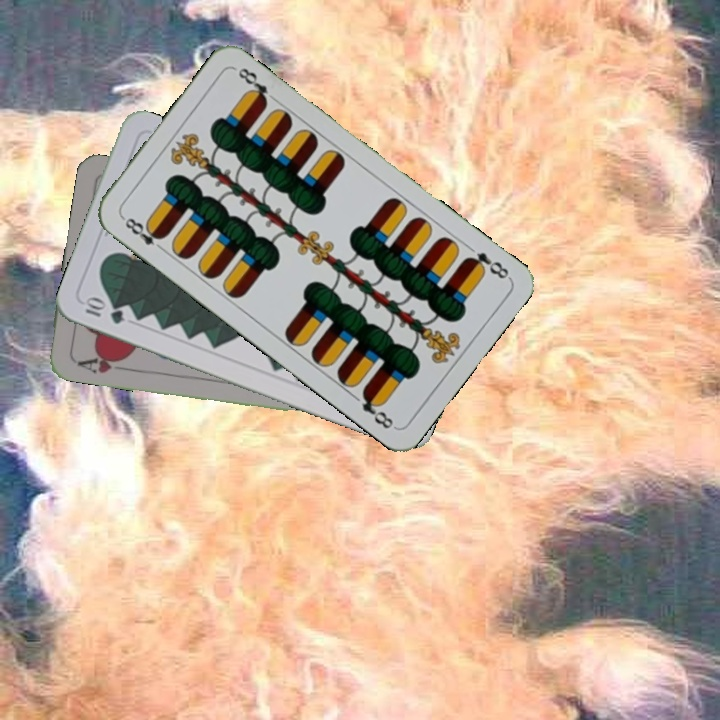E8: (118, 212, 168, 254), (460, 248, 512, 282)
G10: (79, 294, 128, 327)
HA: (73, 349, 131, 376)
